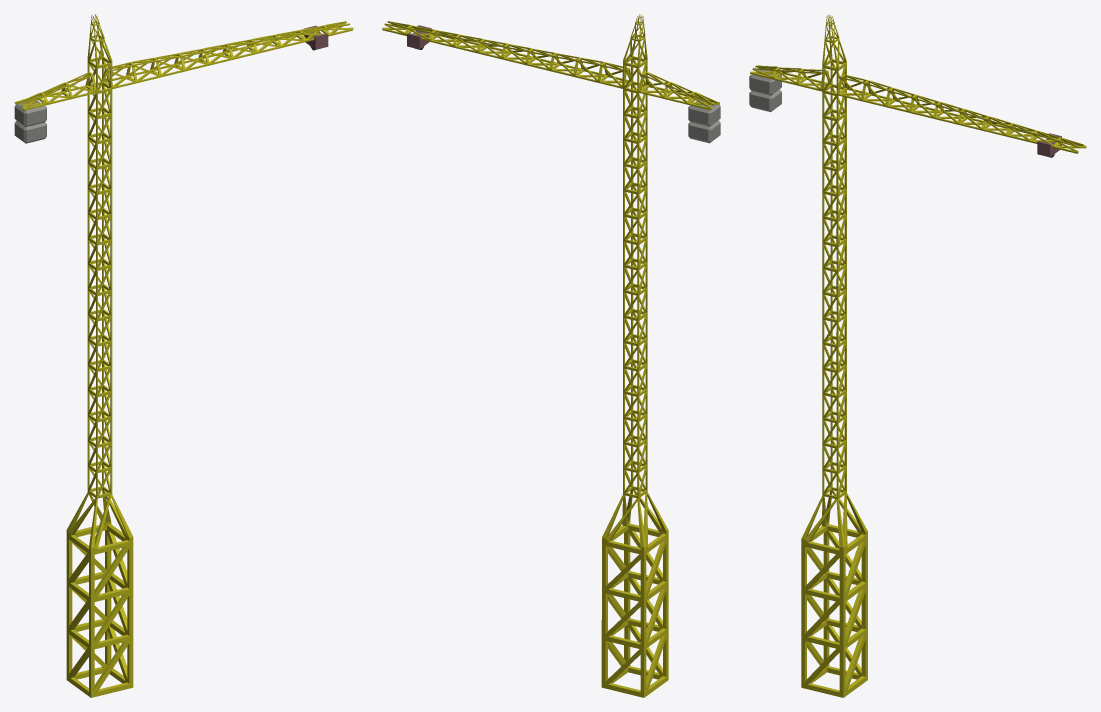
The model's file is grua_sketchfab.fbx.
3 views of the same model, side by side, from view 1: azimuth 30°, elevation 25°; view 2: azimuth 150°, elevation 25°; view 3: azimuth 330°, elevation 25° (orthographic).
Parts seen in each view (by area): view 1: grua; view 2: grua; view 3: grua.
Boxes of the visible parts, left/top/right/bottom form: grua: left=14, top=14, right=353, bottom=697; grua: left=382, top=14, right=720, bottom=697; grua: left=749, top=14, right=1086, bottom=697.
Bounding box in the file's own units: 1.14 × 2.2 × 0.1455.
Materials: 1 (1 with a texture image).
